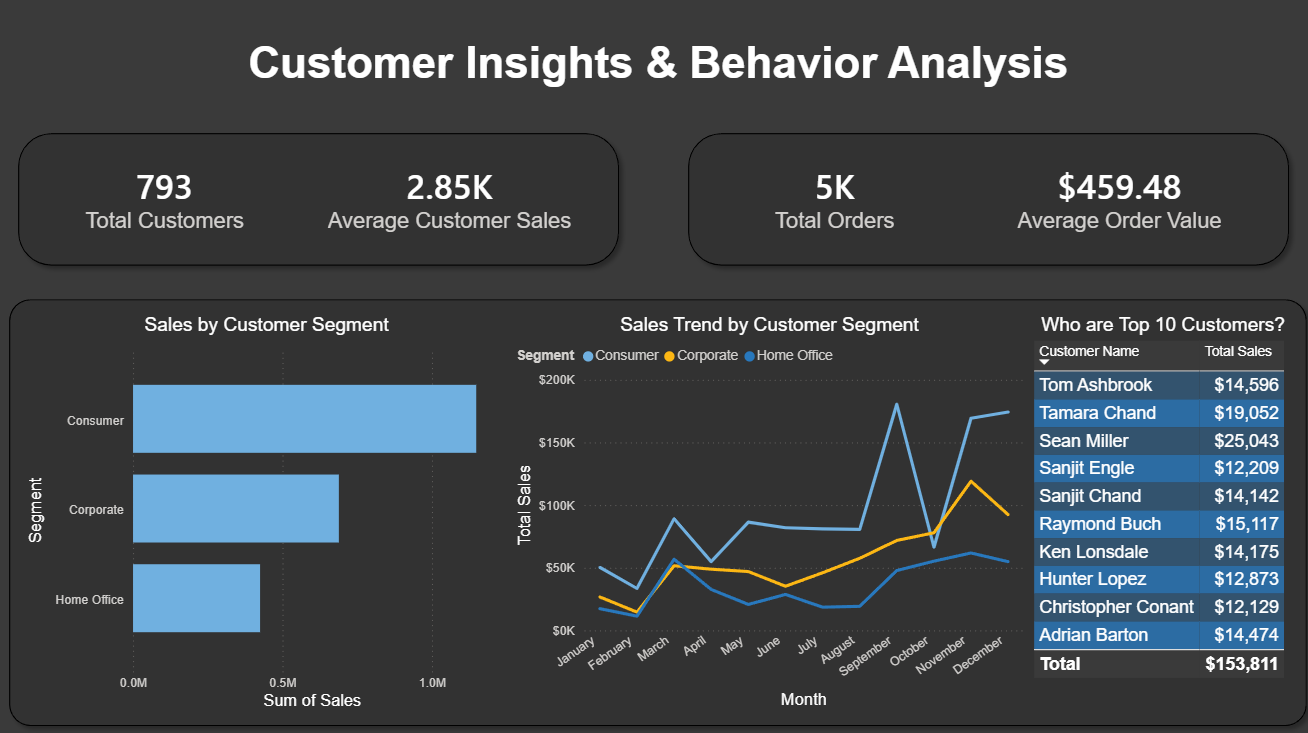

The dashboard page shown, as its layout file describes it:
{"tool":"powerbi","page":{"name":"Customer Insights","canvas":[1280,720],"ordinal":2},"visuals":[{"type":"shape","box":[0,286.4,1280,433.1],"z":0},{"type":"shape","box":[9,125.2,602.2,146.6],"z":1000},{"type":"shape","box":[660.9,125.2,602.2,146.6],"z":2000},{"type":"tableEx","title":"Who are Top 10 Customers?","fields":{"Values":["Super_Store_Data.Customer Name","Super_Store_Data.Total Sales"]},"box":[1000.3,310.1,262.8,378.9],"z":3000},{"type":"clusteredBarChart","title":"Sales by Customer Segment","fields":{"Category":["Super_Store_Data.Segment"],"Y":["Sum(Super_Store_Data.Sales)"]},"box":[21.4,310.1,475.9,389.1],"z":4000},{"type":"lineChart","title":"Sales Trend by Customer Segment","fields":{"Category":["Super_Store_Data.order_date.Variation.Date Hierarchy.Year","Super_Store_Data.order_date.Variation.Date Hierarchy.Month"],"Y":["Super_Store_Data.Total Sales"],"Series":["Super_Store_Data.Segment"]},"box":[497.3,310.1,503,389.1],"z":5000},{"type":"cardVisual","fields":{"Data":["Super_Store_Data.Total Customers","Super_Store_Data.Avg Sales per Customer"]},"box":[9,109.4,581.9,177.1],"z":6000},{"type":"cardVisual","fields":{"Data":["Super_Store_Data.Total Orders","Super_Store_Data.Avg Order Value"]},"box":[660.9,109.4,580.8,177.1],"z":7000},{"type":"textbox","box":[181.6,37.2,916.9,72.2],"z":8000}]}

Visuals, with their boxes in screenshot pixels (x1, y1, x2, y2), scaled from the page's 1280x720 canvas onto the 1308x733 screenshot:
shape: <bbox>0, 292, 1307, 732</bbox>
shape: <bbox>9, 127, 625, 277</bbox>
shape: <bbox>675, 127, 1291, 277</bbox>
"Who are Top 10 Customers?" tableEx: <bbox>1022, 316, 1291, 701</bbox>
"Sales by Customer Segment" clusteredBarChart: <bbox>22, 316, 508, 712</bbox>
"Sales Trend by Customer Segment" lineChart: <bbox>508, 316, 1022, 712</bbox>
cardVisual - Super_Store_Data.Total Customers x Super_Store_Data.Avg Sales per Customer: <bbox>9, 111, 604, 292</bbox>
cardVisual - Super_Store_Data.Total Orders x Super_Store_Data.Avg Order Value: <bbox>675, 111, 1269, 292</bbox>
textbox: <bbox>186, 38, 1123, 111</bbox>
